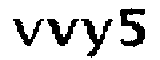5: (115, 3, 147, 49)
v: (45, 14, 78, 49), (11, 16, 45, 47)
y: (78, 11, 113, 59)
